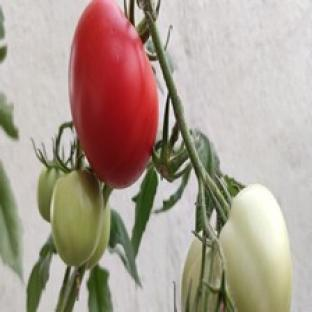Tomato: (221, 184, 292, 311), (52, 170, 104, 267), (182, 237, 217, 311), (87, 205, 111, 268), (38, 168, 61, 221)
